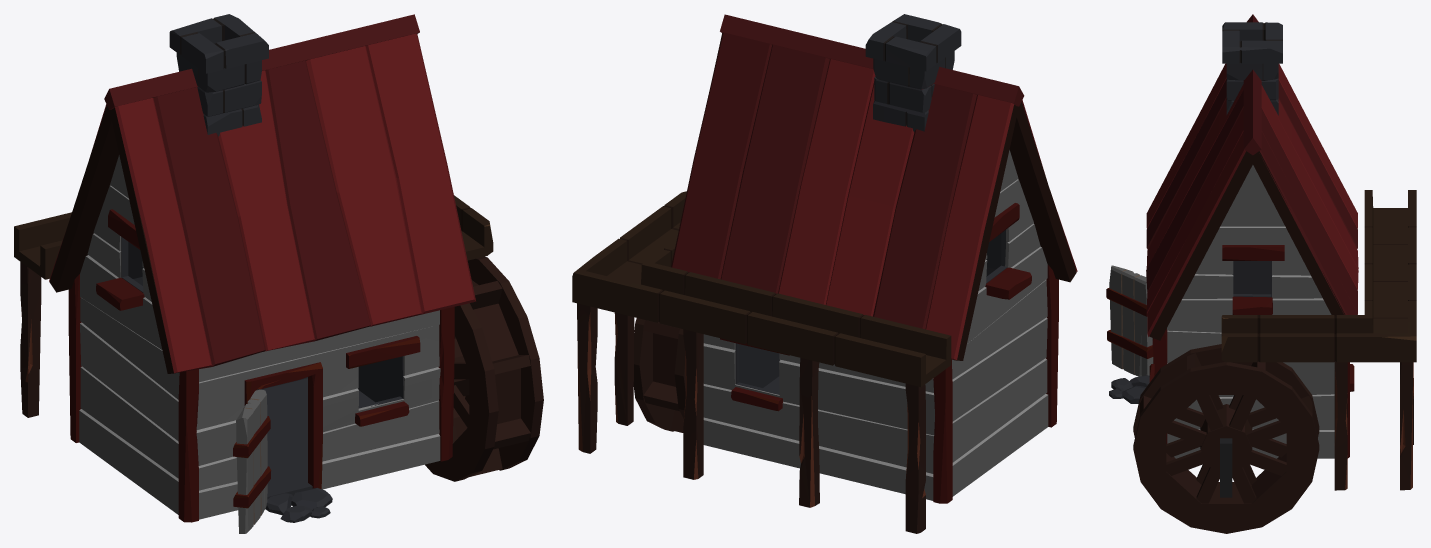
Rendered from Watermill_1.fbx.
3 views of the same model, side by side, from view 1: azimuth 30°, elevation 25°; view 2: azimuth 150°, elevation 25°; view 3: azimuth 270°, elevation 25° (orthographic). The views are drawn at different scales.
Visible parts, largest first — view 1: Watermill_1; view 2: Watermill_1; view 3: Watermill_1.
Part boxes in pixels (<box>): Watermill_1: <box>14,14,543,533</box>; Watermill_1: <box>572,14,1077,533</box>; Watermill_1: <box>1106,14,1416,533</box>.
Bounding box in the file's own units: 176 × 210 × 149.
